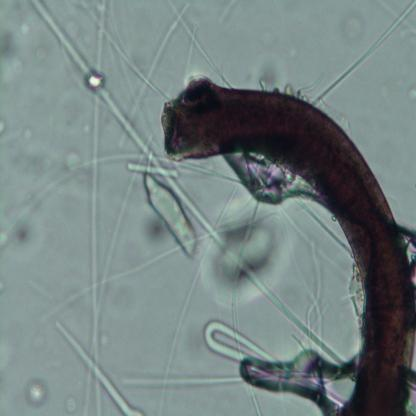Background material: (202, 206, 288, 304), (144, 172, 196, 260), (0, 208, 39, 261), (16, 133, 54, 185), (0, 21, 29, 83), (0, 318, 21, 380), (23, 372, 51, 410), (340, 6, 366, 44), (58, 139, 80, 175), (65, 392, 77, 411), (0, 118, 9, 136)
Glass filter fibre: (34, 1, 340, 363), (314, 0, 416, 104), (87, 0, 109, 416), (54, 320, 143, 416), (242, 349, 357, 412), (130, 4, 190, 123), (204, 320, 281, 365), (116, 373, 244, 390), (122, 160, 180, 178)
Microfibre: (162, 75, 416, 416)
